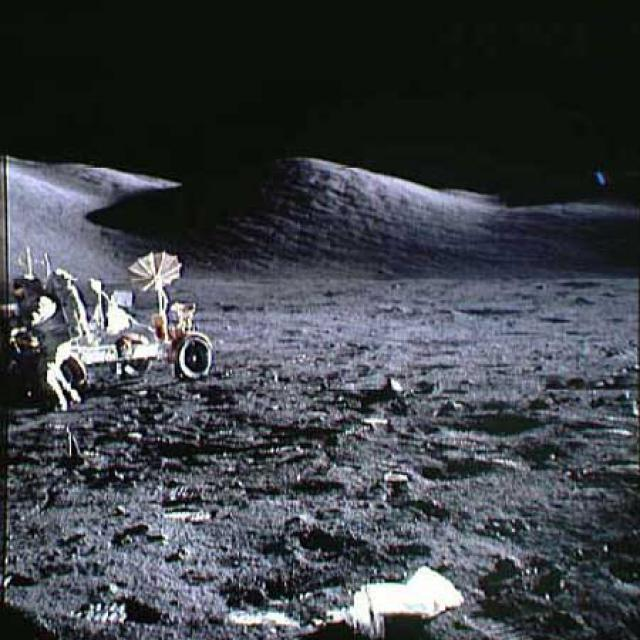artifact: (6, 239, 218, 405)
crater: (403, 411, 539, 438), (406, 455, 490, 479), (461, 300, 521, 319), (544, 276, 606, 290)
